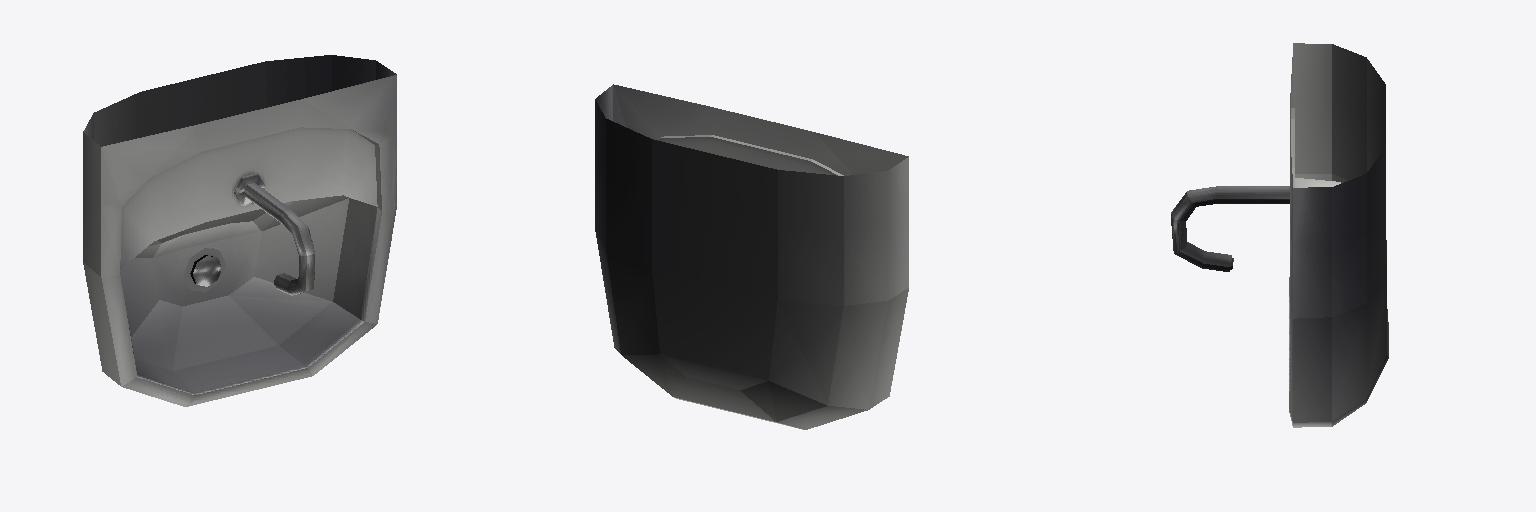
3 renders of one model, left to right at view 1: azimuth 30°, elevation 25°; view 2: azimuth 150°, elevation 25°; view 3: azimuth 270°, elevation 25°, orthographic.
Visible parts, largest first — view 1: BathroomSink_Sink_bathroomSink.002; view 2: BathroomSink_Sink_bathroomSink.002; view 3: BathroomSink_Sink_bathroomSink.002.
Part boxes in pixels (x1,y1,x2,y2): BathroomSink_Sink_bathroomSink.002: (83, 55, 396, 406); BathroomSink_Sink_bathroomSink.002: (595, 84, 908, 429); BathroomSink_Sink_bathroomSink.002: (1171, 43, 1388, 427).
Bounding box in the file's own units: 0.5054 × 0.4585 × 0.3231.
Materials: 1 (1 with a texture image).